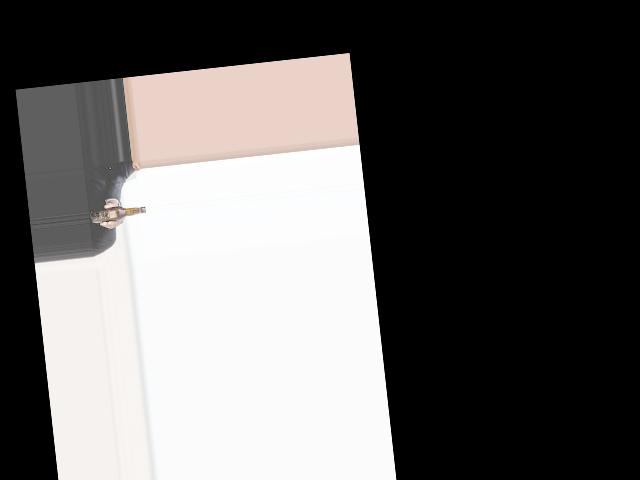beer: (89, 204, 146, 224)
